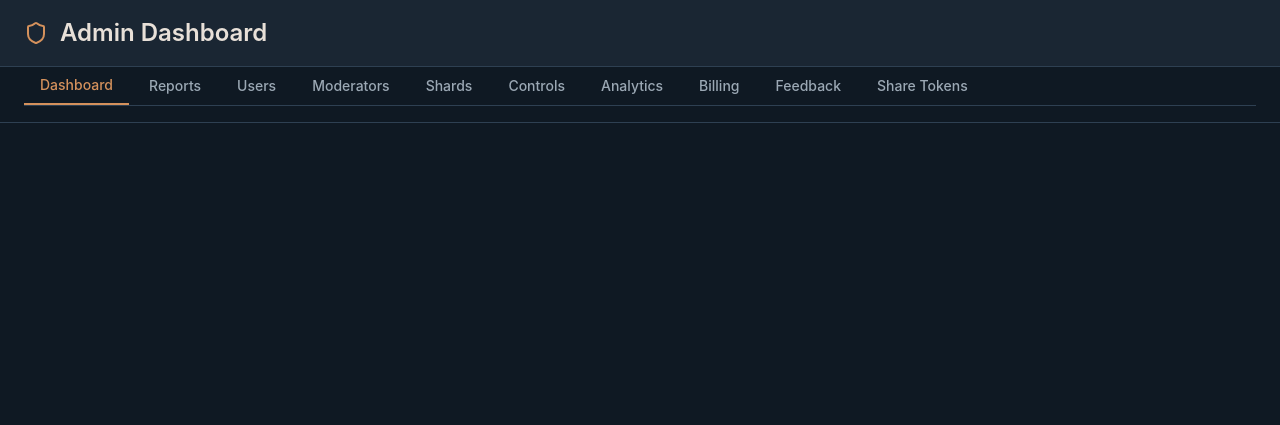
Test case: the admin controls' own text comes from the locale (Rule 14) › the feedback queue's issue button
Click the tab "Feedback" at x=808, y=86, box [760, 67, 857, 105]
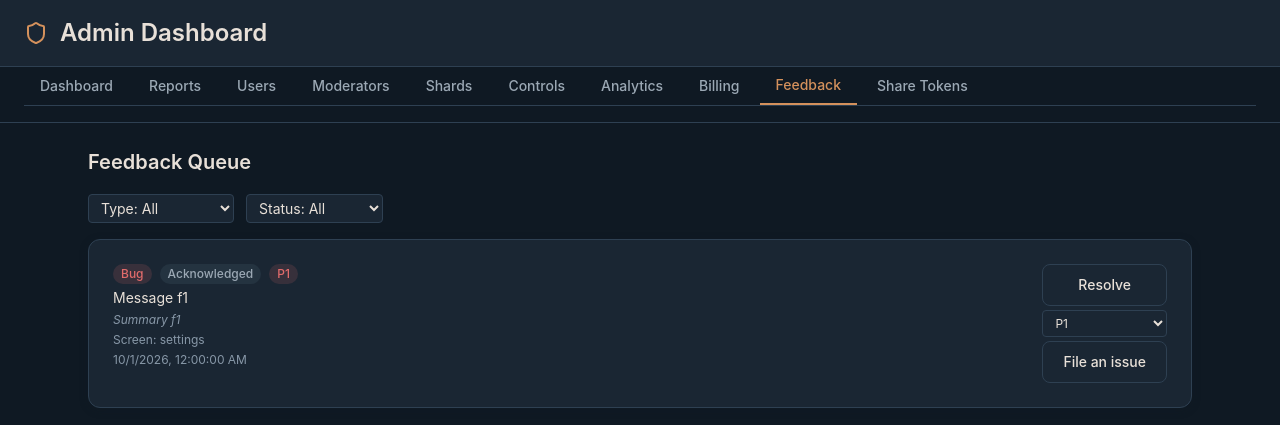
Expected: the button "File an issue" is shown, [1042, 341, 1167, 383]
